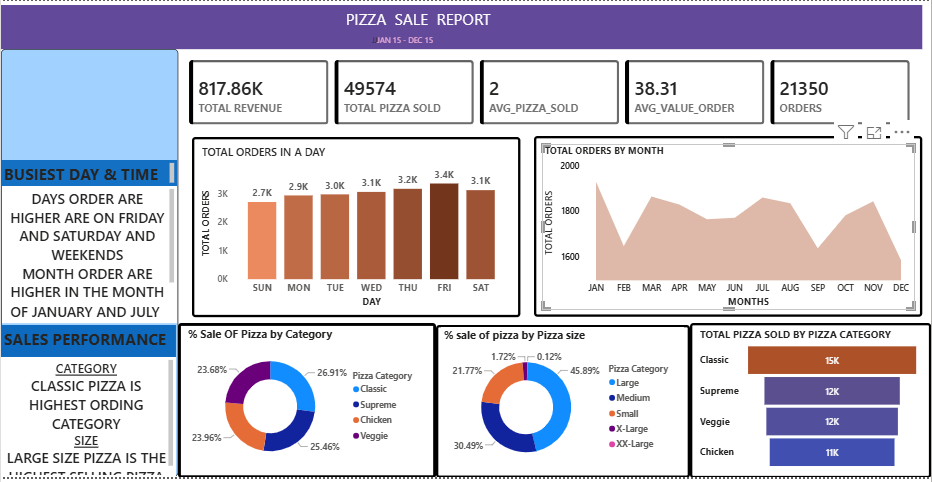

Layout of this report page (visuals, bound fields, positions):
{"tool":"powerbi","page":{"name":"SALES PERFORAMNCE","canvas":[1600,820],"ordinal":0},"visuals":[{"type":"cardVisual","fields":{"Data":["pizza_sales.TOTAL REVENUE","pizza_sales.TOTAL_PIZZA_SOLD","pizza_sales.AVG_PIZZA_SOLD","pizza_sales.AVG_VALUE_ORDER","pizza_sales.ORDERS"]},"box":[304.5,82.6,1280,149.7],"z":0},{"type":"textbox","box":[305,373,146,65],"z":1000},{"type":"textbox","box":[305,546.7,146.7,65],"z":2000},{"type":"textbox","box":[303.5,670,150,150],"z":3000},{"type":"textbox","box":[0,6.9,1584.5,75.7],"z":4000},{"type":"textbox","box":[588.4,6.9,271.8,46.5],"z":5000},{"type":"textbox","box":[328.3,233.3,565,310],"z":6000},{"type":"clusteredColumnChart","title":"TOTAL ORDERS IN A DAY","fields":{"Y":["pizza_sales.ORDERS"],"Category":["pizza_sales.day"]},"box":[340.6,246,540.2,285.6],"z":7000},{"type":"textbox","box":[917,232.3,667.5,311.4],"z":8000},{"type":"stackedAreaChart","title":"TOTAL ORDERS BY MONTH","fields":{"Y":["pizza_sales.ORDERS"],"Category":["pizza_sales.month"]},"box":[930.8,246,641.7,285.6],"z":9000},{"type":"textbox","box":[748.4,557.4,437,263.2],"z":10000},{"type":"textbox","box":[304.5,554,443.9,266.7],"z":11000},{"type":"donutChart","title":"% Sale OF Pizza  by Category","fields":{"Y":["pizza_sales.TOTAL REVENUE"],"Category":["pizza_sales.Pizza_Category"]},"box":[316.6,559.1,418.1,251.2],"z":12000},{"type":"donutChart","title":"% sale of pizza by Pizza size","fields":{"Y":["pizza_sales.TOTAL REVENUE"],"Category":["pizza_sales.Pizza_Size"]},"box":[757,560.9,418.1,251.2],"z":13000},{"type":"textbox","box":[1185.4,554,414.6,266.7],"z":14000},{"type":"funnel","title":"TOTAL PIZZA SOLD BY PIZZA CATEGORY","fields":{"Y":["pizza_sales.TOTAL_PIZZA_SOLD"],"Category":["pizza_sales.Pizza_Category"]},"box":[1197.4,560.9,387.1,249.5],"z":15000},{"type":"textbox","box":[610.8,53.3,160,29.2],"z":16000},{"type":"textbox","box":[0,82.6,304.5,736.3],"z":17000},{"type":"textbox","box":[0,273.5,302.8,44.7],"z":18000},{"type":"textbox","box":[1.7,318.3,301.1,235.7],"z":19000},{"type":"textbox","box":[0,557.4,301.1,55.1],"z":20000},{"type":"textbox","box":[0,612.5,301.1,208.2],"z":21000}]}

Visuals, with their boxes in screenshot pixels (x1, y1, x2, y2), scaled from the page's 1600x820 canvas onto the 932x482 screenshot:
cardVisual - pizza_sales.TOTAL REVENUE x pizza_sales.TOTAL_PIZZA_SOLD: <bbox>177, 49, 923, 137</bbox>
textbox: <bbox>178, 219, 263, 257</bbox>
textbox: <bbox>178, 321, 263, 360</bbox>
textbox: <bbox>177, 394, 264, 481</bbox>
textbox: <bbox>0, 4, 923, 49</bbox>
textbox: <bbox>343, 4, 501, 31</bbox>
textbox: <bbox>191, 137, 520, 319</bbox>
"TOTAL ORDERS IN A DAY" clusteredColumnChart: <bbox>198, 145, 513, 312</bbox>
textbox: <bbox>534, 137, 923, 320</bbox>
"TOTAL ORDERS BY MONTH" stackedAreaChart: <bbox>542, 145, 916, 312</bbox>
textbox: <bbox>436, 328, 690, 481</bbox>
textbox: <bbox>177, 326, 436, 481</bbox>
"% Sale OF Pizza  by Category" donutChart: <bbox>184, 329, 428, 476</bbox>
"% sale of pizza by Pizza size" donutChart: <bbox>441, 330, 684, 477</bbox>
textbox: <bbox>690, 326, 931, 481</bbox>
"TOTAL PIZZA SOLD BY PIZZA CATEGORY" funnel: <bbox>697, 330, 923, 476</bbox>
textbox: <bbox>356, 31, 449, 48</bbox>
textbox: <bbox>0, 49, 177, 481</bbox>
textbox: <bbox>0, 161, 176, 187</bbox>
textbox: <bbox>1, 187, 176, 326</bbox>
textbox: <bbox>0, 328, 175, 360</bbox>
textbox: <bbox>0, 360, 175, 481</bbox>
